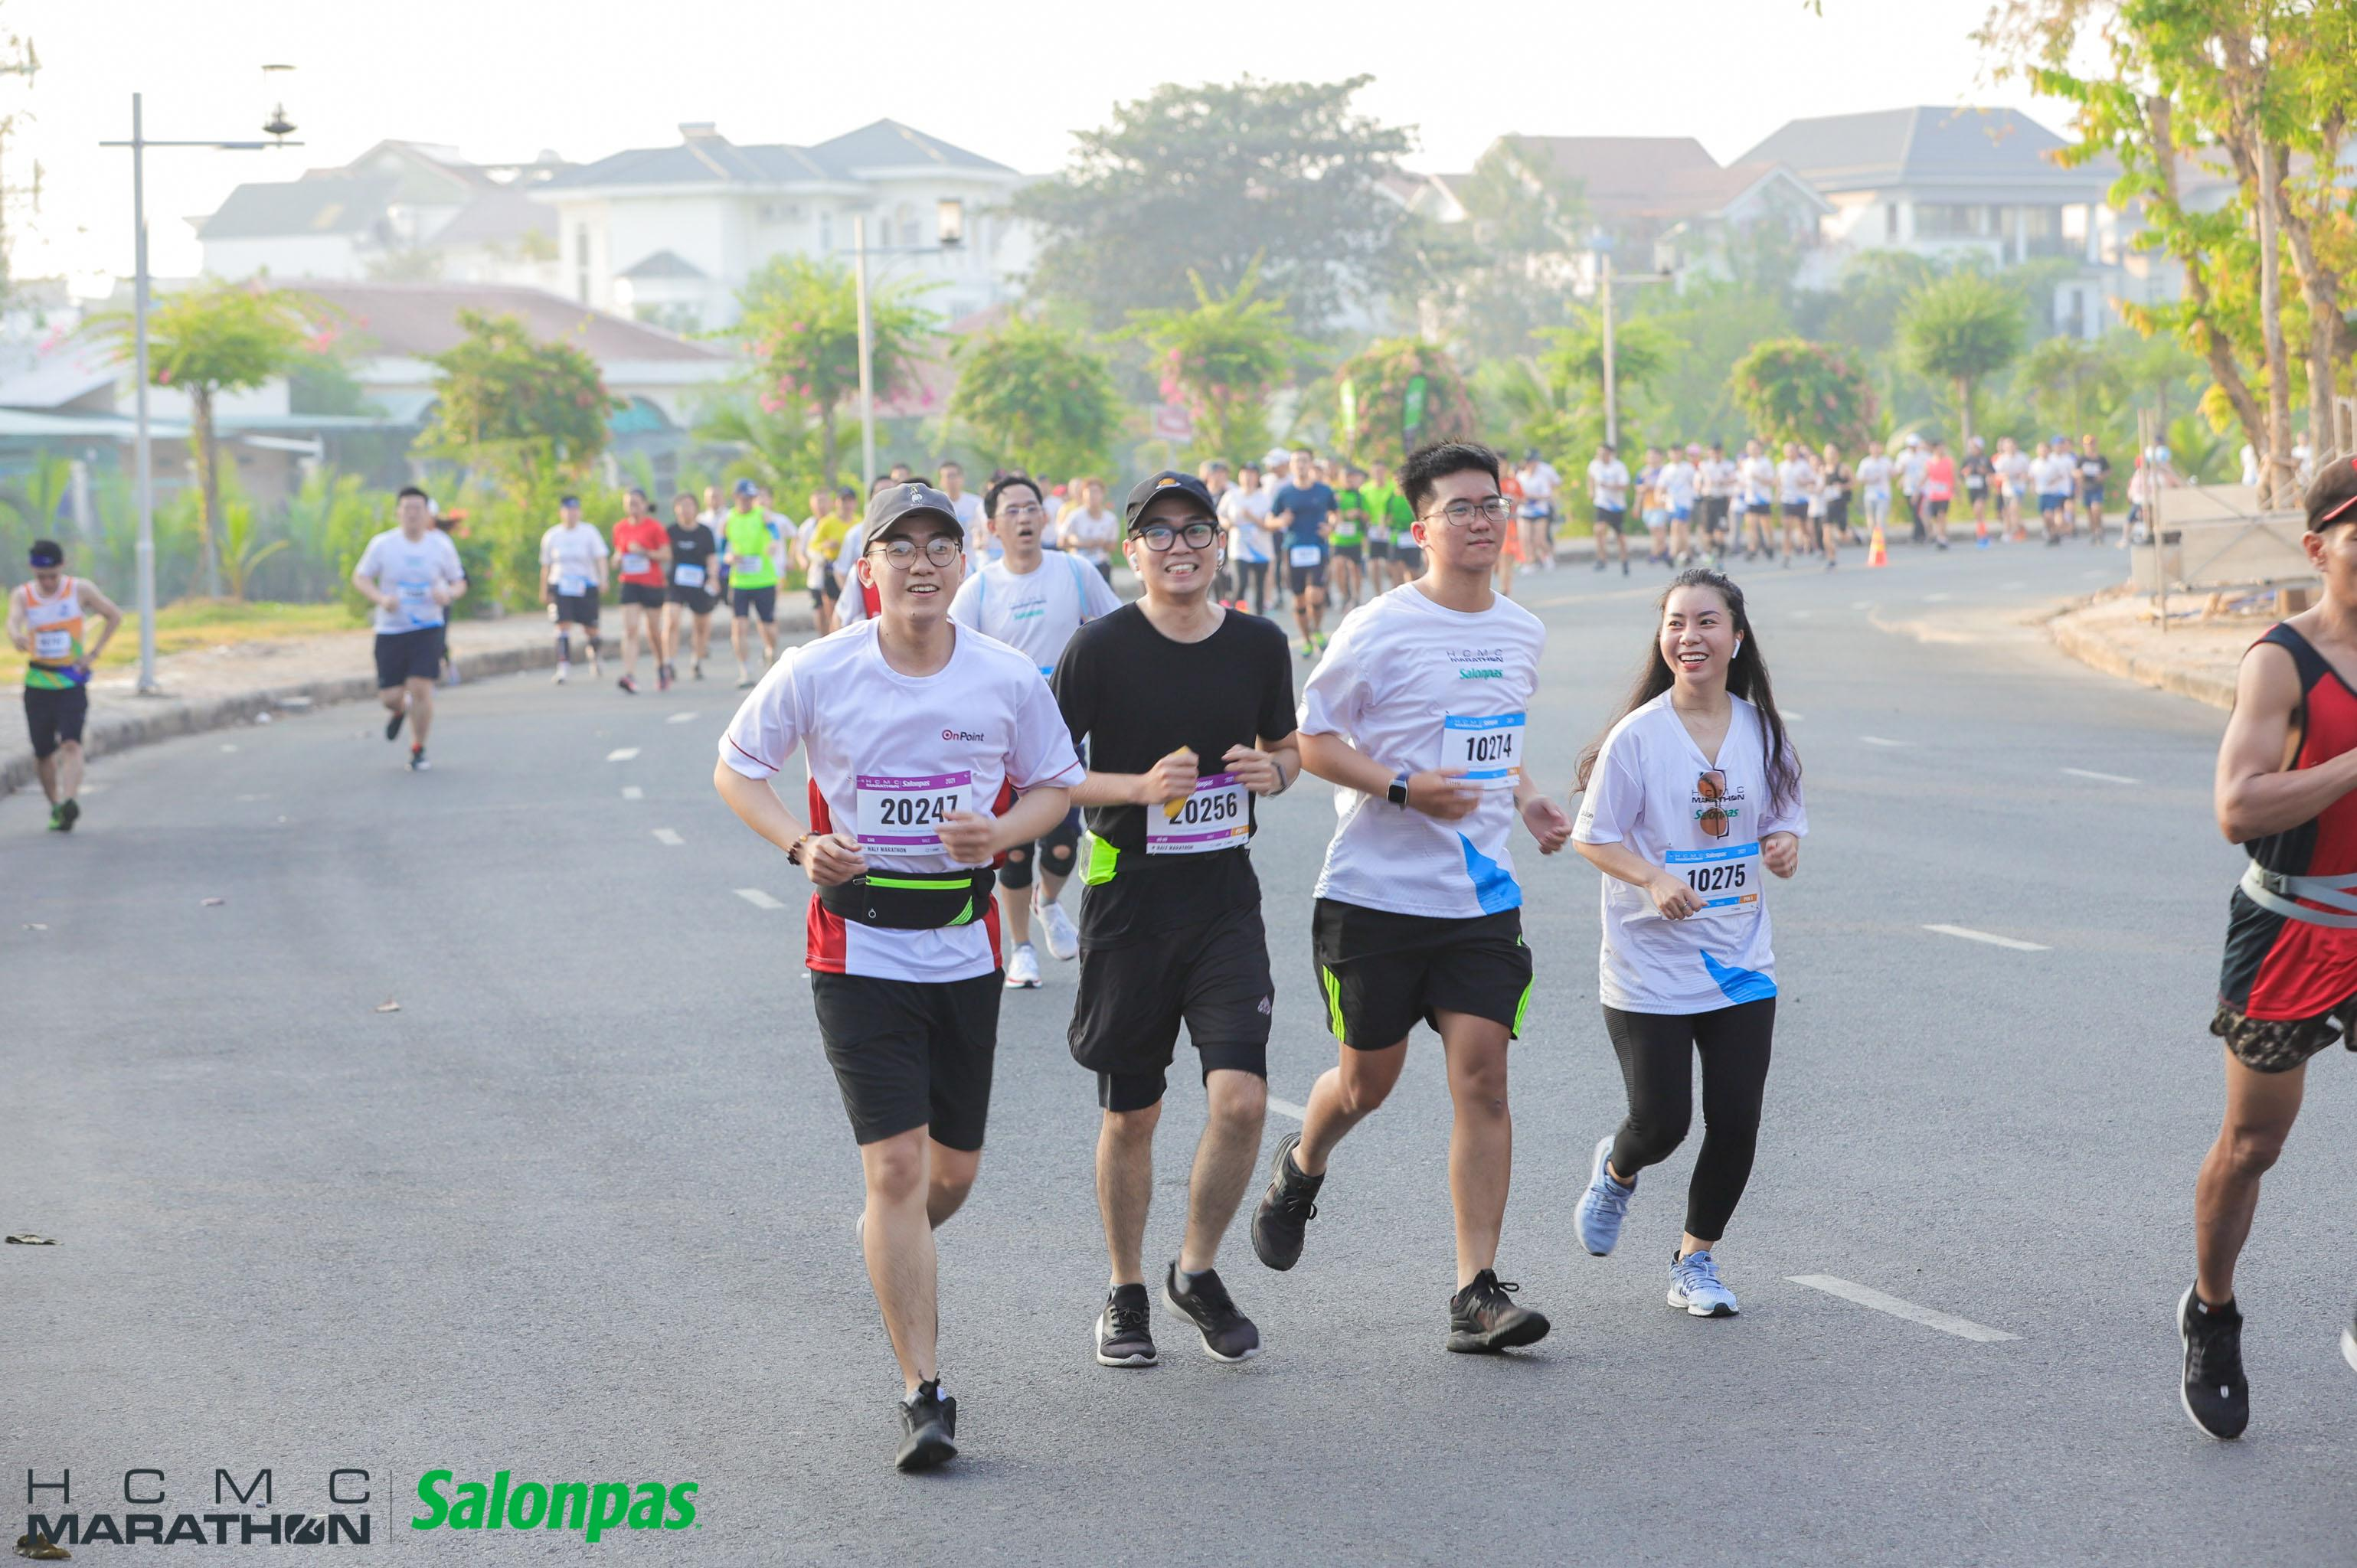bib: (856, 779, 971, 850), (1153, 784, 1253, 850), (1444, 719, 1522, 787), (1673, 850, 1755, 906), (33, 632, 72, 658), (399, 584, 432, 602), (1291, 546, 1319, 565)
